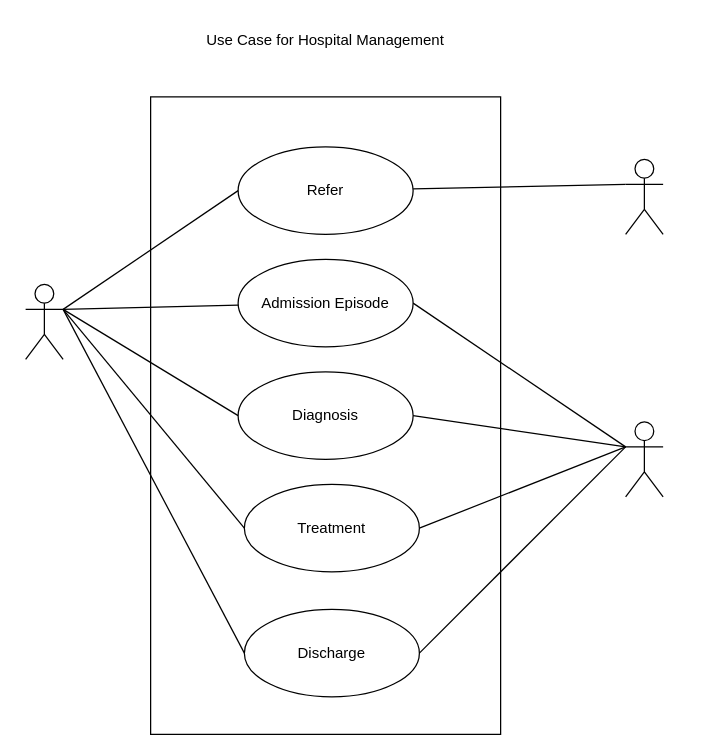
The diagram is 728 pixels wide and 756 high, and some of its shapes have lost their labels. Each missing label, with the centre of its shape:
Community Doctor: the point at 643,196
Hospital Doctor: the point at 643,459
Patient: the point at 43,321
